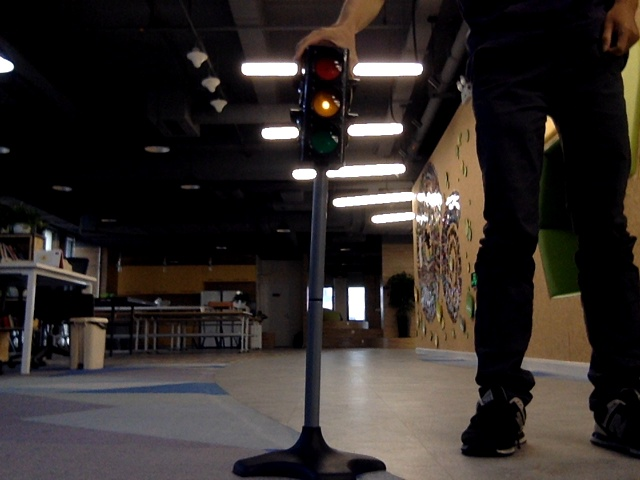yellow: (308, 54, 338, 161)
